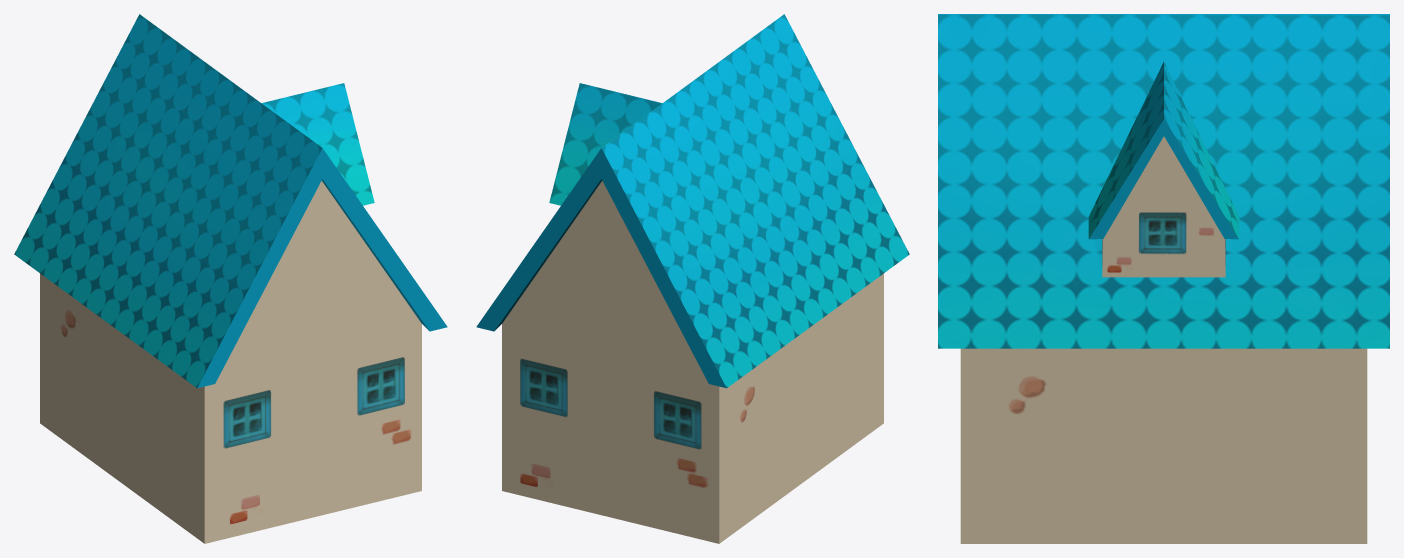
File: house 2.FBX
The picture shows the model from 3 angles, left to right: view 1: azimuth 30°, elevation 25°; view 2: azimuth 150°, elevation 25°; view 3: azimuth 270°, elevation 25°; orthographic projection. The views are drawn at different scales.
Parts seen in each view (by area): view 1: Object003; view 2: Object003; view 3: Object003.
Part boxes in pixels (box(x1,y1,x2,y2)): Object003: box(14, 14, 447, 543); Object003: box(476, 14, 909, 543); Object003: box(938, 14, 1389, 543).
Bounding box in the file's own units: 46 × 65.98 × 58.17.
1 material, 1 textured.
